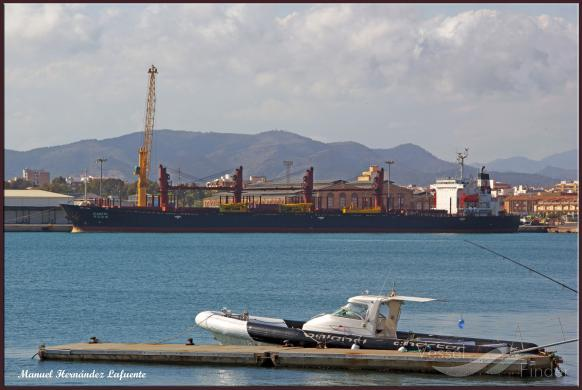OCR: (88, 210, 111, 223)
